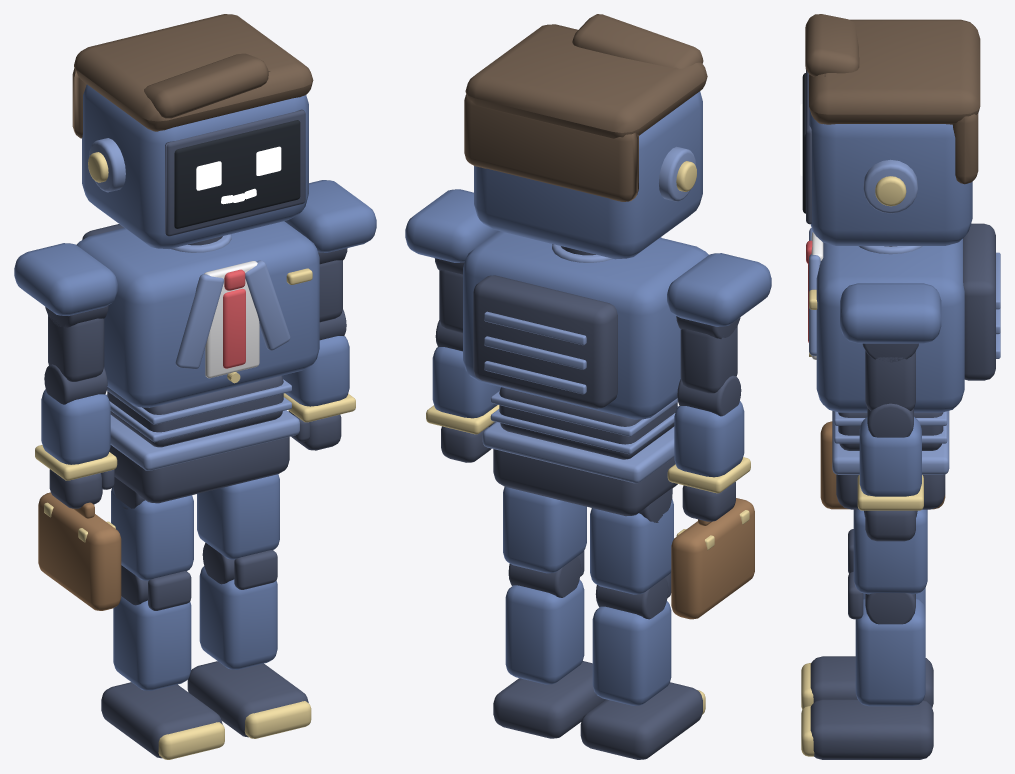
The model's file is hiringManager.glb.
3 renders of one model, left to right at view 1: azimuth 30°, elevation 25°; view 2: azimuth 150°, elevation 25°; view 3: azimuth 270°, elevation 25°, orthographic.
Visible parts, largest first — view 1: head_mesh, spine_mesh, elbow_R_mesh, knee_L_mesh, knee_R_mesh, hips_mesh, shoulder_R_mesh, hip_R_mesh, shoulder_L_mesh, elbow_L_mesh, hip_L_mesh; view 2: head_mesh, spine_mesh, elbow_R_mesh, knee_R_mesh, knee_L_mesh, hips_mesh, shoulder_R_mesh, hip_R_mesh, shoulder_L_mesh, elbow_L_mesh, hip_L_mesh; view 3: head_mesh, spine_mesh, knee_L_mesh, shoulder_L_mesh, elbow_L_mesh, hip_L_mesh, knee_R_mesh, hips_mesh, elbow_R_mesh, neck_mesh.
Part boxes in pixels (x1,y1,x2,y2): head_mesh: [72, 14, 313, 248]; spine_mesh: [76, 221, 319, 447]; elbow_R_mesh: [35, 364, 121, 610]; knee_L_mesh: [187, 542, 311, 738]; knee_R_mesh: [101, 565, 224, 759]; hips_mesh: [109, 410, 299, 503]; shoulder_R_mesh: [14, 243, 117, 381]; hip_R_mesh: [111, 477, 193, 580]; shoulder_L_mesh: [284, 180, 376, 322]; elbow_L_mesh: [282, 309, 355, 450]; hip_L_mesh: [197, 474, 279, 559]; head_mesh: [464, 14, 707, 259]; spine_mesh: [463, 231, 708, 459]; elbow_R_mesh: [667, 375, 754, 619]; knee_R_mesh: [580, 572, 705, 759]; knee_L_mesh: [493, 551, 605, 738]; hips_mesh: [482, 422, 677, 516]; shoulder_R_mesh: [667, 253, 771, 393]; hip_R_mesh: [590, 488, 673, 594]; shoulder_L_mesh: [405, 189, 498, 333]; elbow_L_mesh: [426, 320, 500, 462]; hip_L_mesh: [503, 487, 586, 573]; head_mesh: [800, 14, 980, 245]; spine_mesh: [806, 223, 1000, 450]; knee_L_mesh: [801, 571, 933, 759]; shoulder_L_mesh: [840, 283, 941, 410]; elbow_L_mesh: [857, 403, 923, 541]; hip_L_mesh: [853, 509, 927, 594]; knee_R_mesh: [801, 529, 933, 709]; hips_mesh: [832, 411, 949, 509]; elbow_R_mesh: [820, 421, 945, 509]; neck_mesh: [859, 246, 922, 254].
Bounding box in the file's own units: 0.98 × 1.95 × 0.514.
